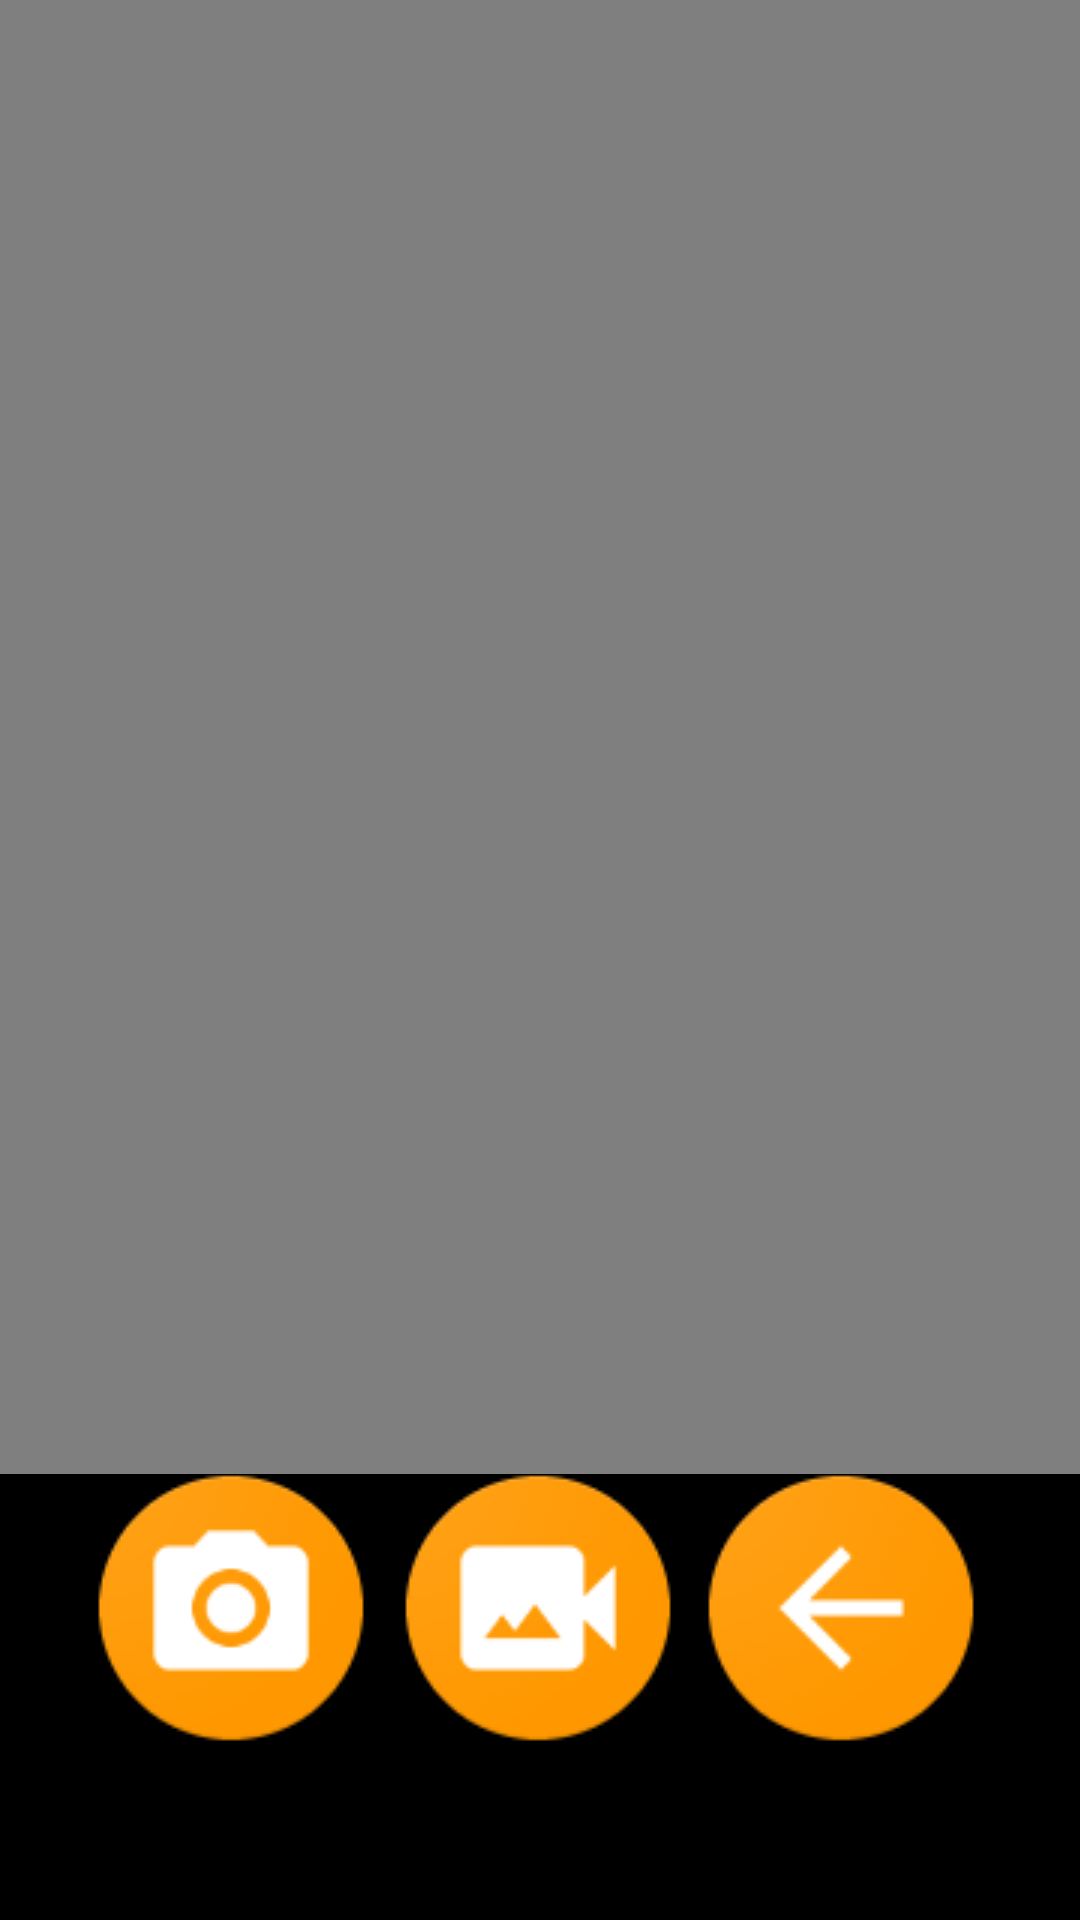

Screen size 1080*1920. Icon name, then its center in pixels as [x,y]:
ret: [841,1608]
